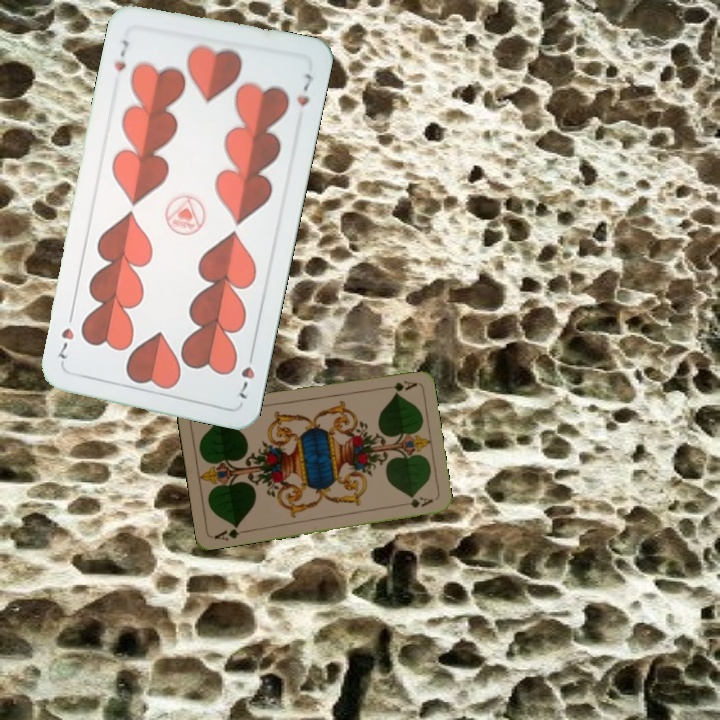GA: (210, 521, 250, 543), (378, 376, 419, 394)
H7: (234, 346, 258, 402), (110, 35, 132, 74)
